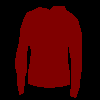felpa: (14, 5, 82, 98)
